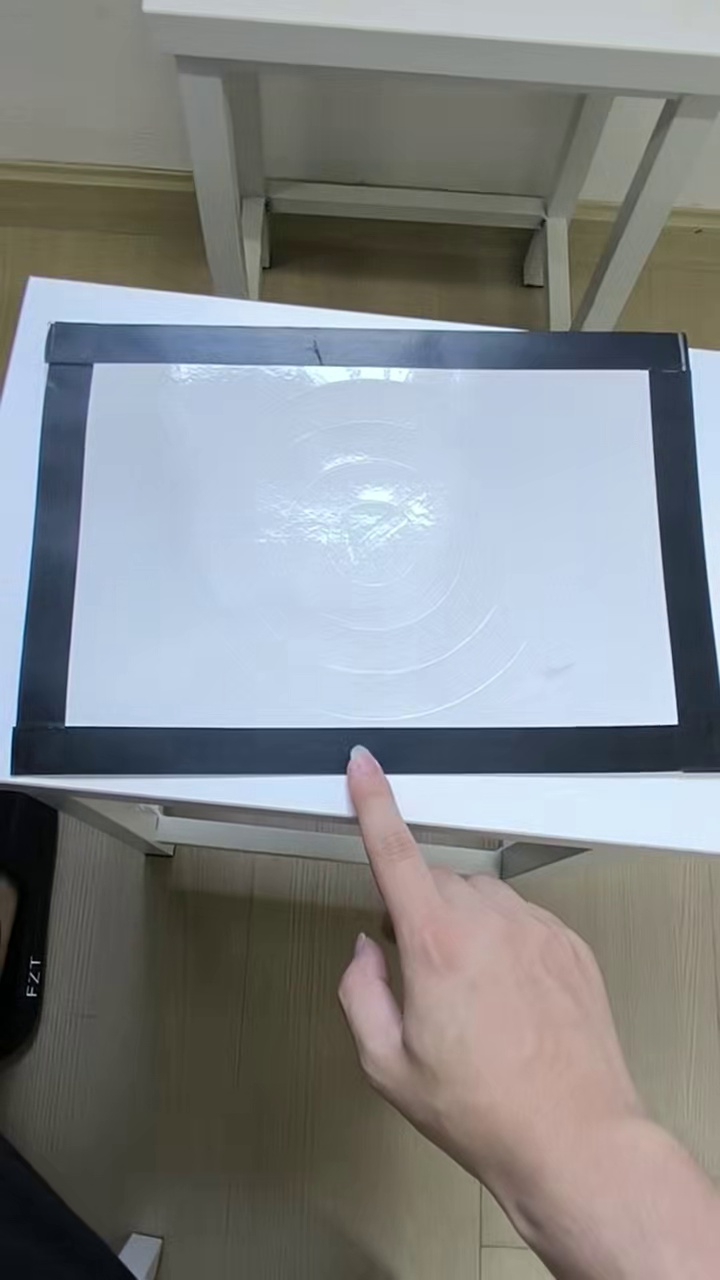board: (13, 324, 707, 767)
